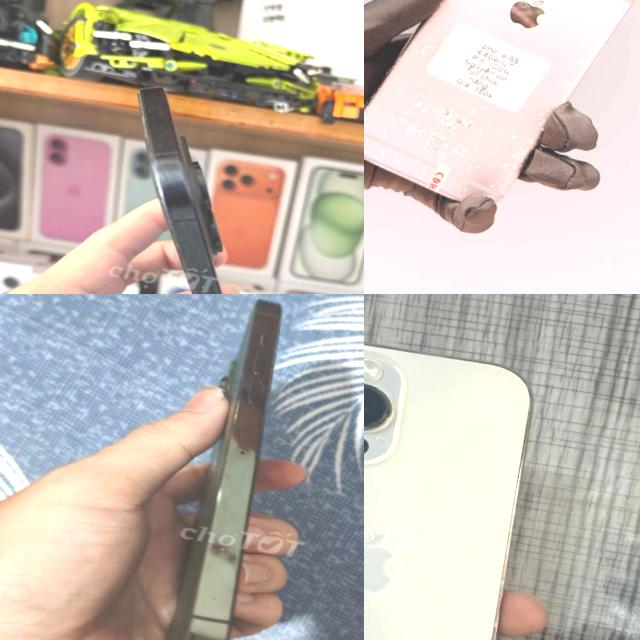gen_12_13: (150, 294, 338, 640)
gen_14: (364, 308, 568, 640)
gen_15: (55, 55, 329, 294)
gen_6: (364, 0, 633, 200)
scratch: (512, 7, 612, 204), (365, 66, 509, 178), (129, 76, 189, 162), (159, 217, 221, 294), (469, 0, 571, 45)
